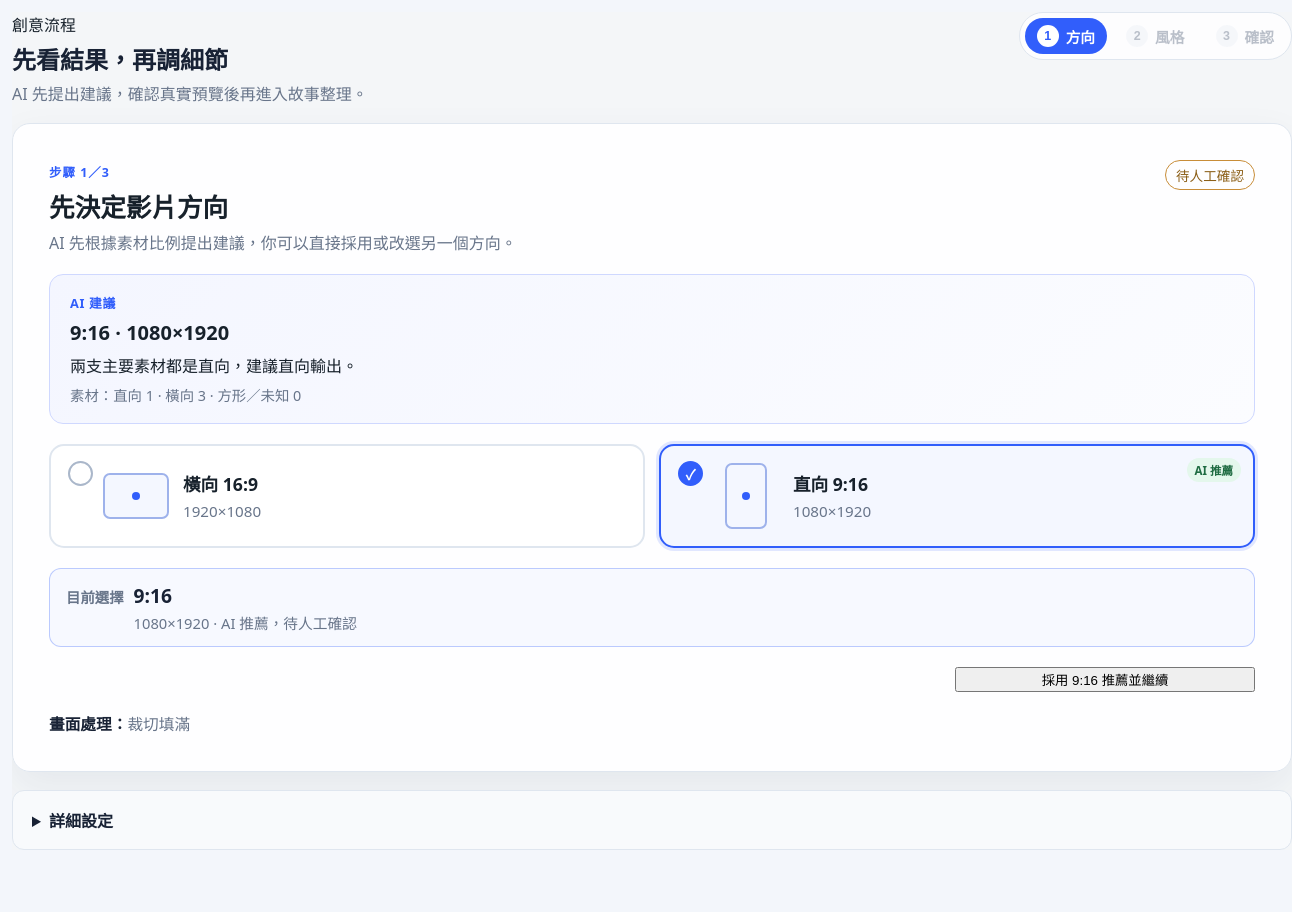
Test case: CreativeFlowWorkspace › shows recommendation as pending approval and moves selection when the whole card is clicked
Expected: the radio button labelled "✓ 直向 9:16 1080×1920 AI 推薦" is checked, [659,444,1255,548]
Expected: the text "待人工確認" is shown, [1165,160,1255,190]
Click the radio button "橫向 16:9" at (136, 496), box [49,444,645,548]
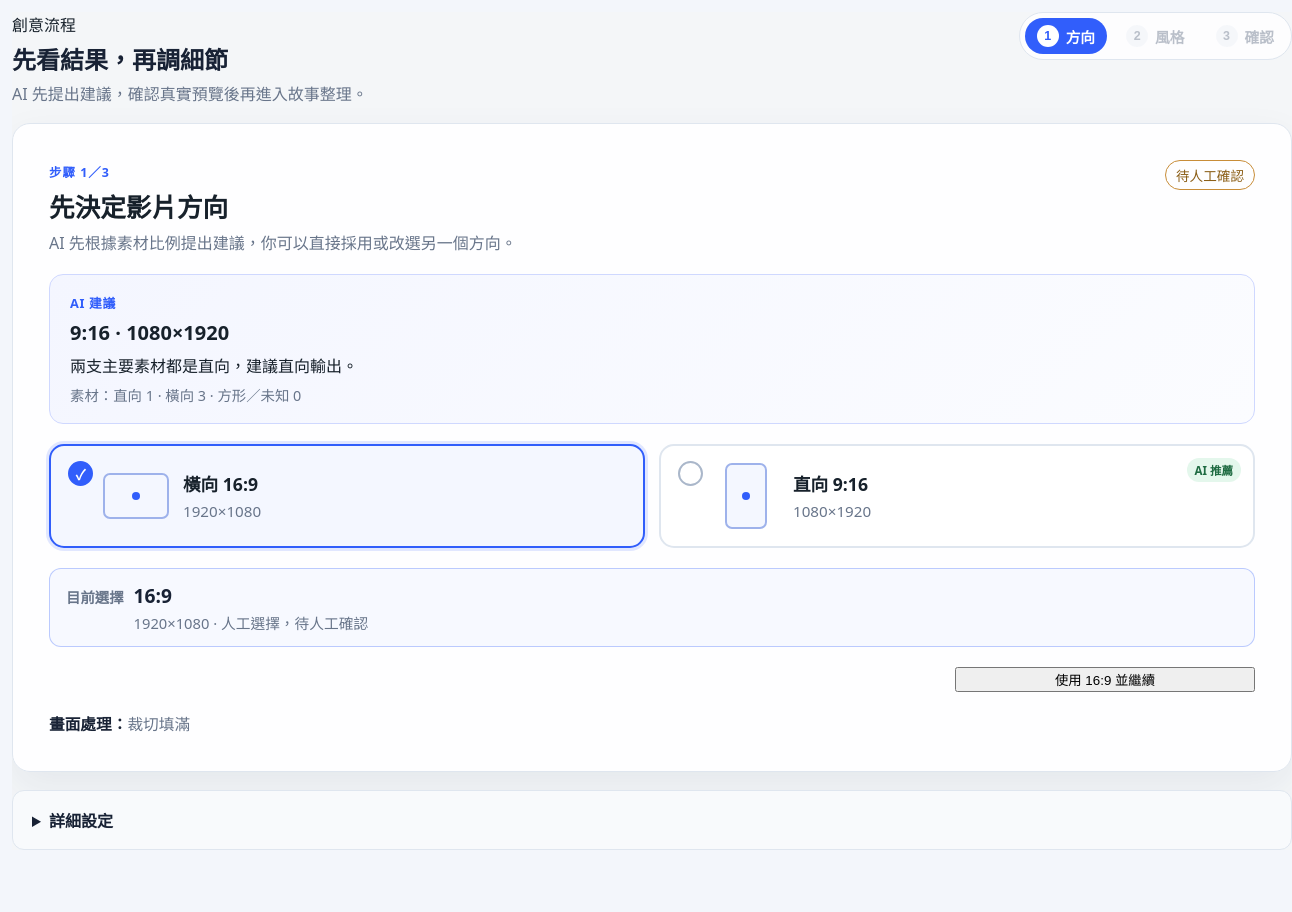
Now the radio button labelled "✓ 橫向 16:9 1920×1080" is checked, box [49,444,645,548]
Now the radio button labelled "直向 9:16 1080×1920 AI 推薦" is not checked
Now the button "使用 16:9 並繼續" is shown, box [955,667,1255,692]
Click the radio button "直向 9:16" at (746, 496), box [659,444,1255,548]
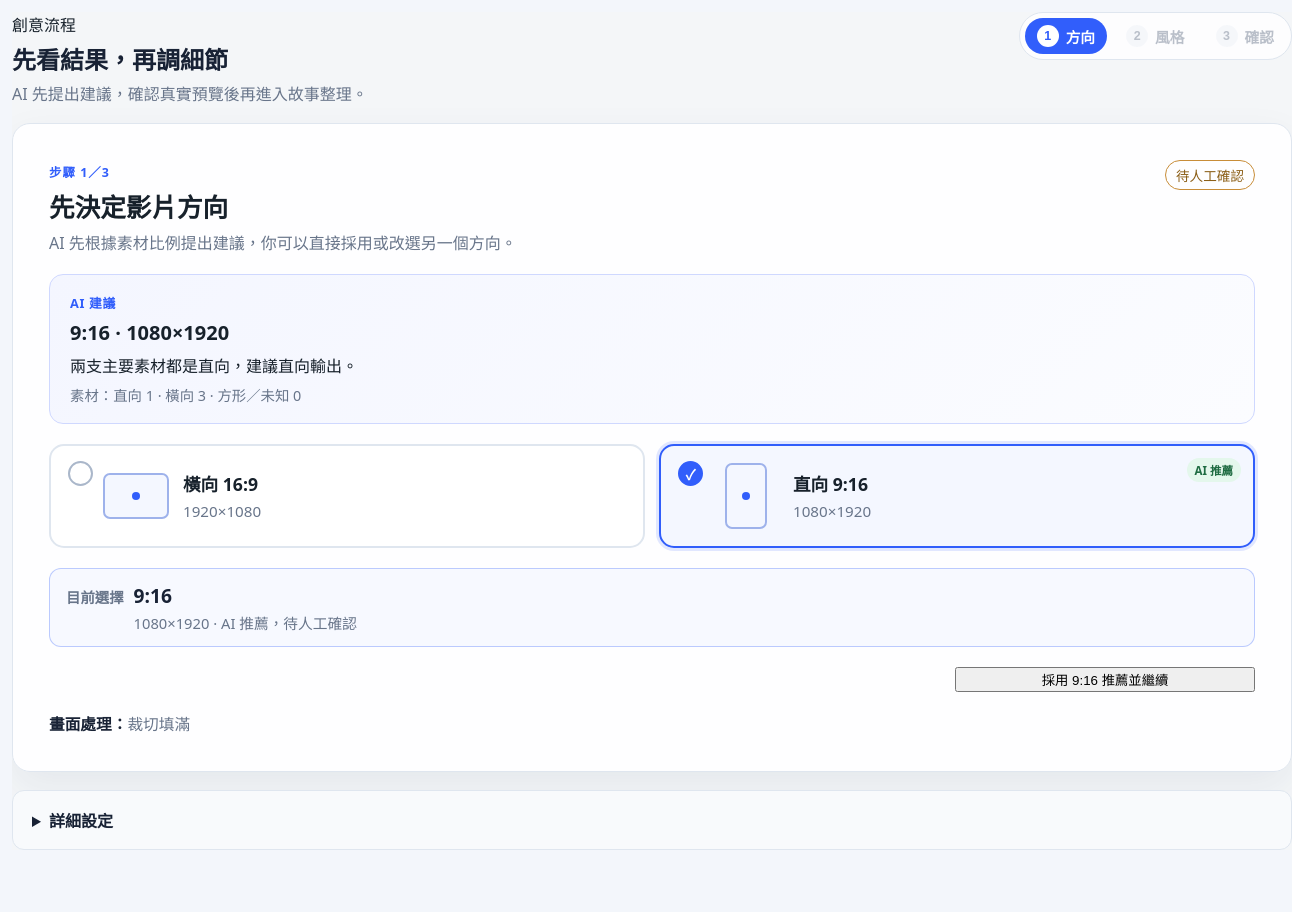
Now the radio button labelled "✓ 直向 9:16 1080×1920 AI 推薦" is checked, box [659,444,1255,548]
Now the button "採用 9:16 推薦並繼續" is shown, box [955,667,1255,692]
